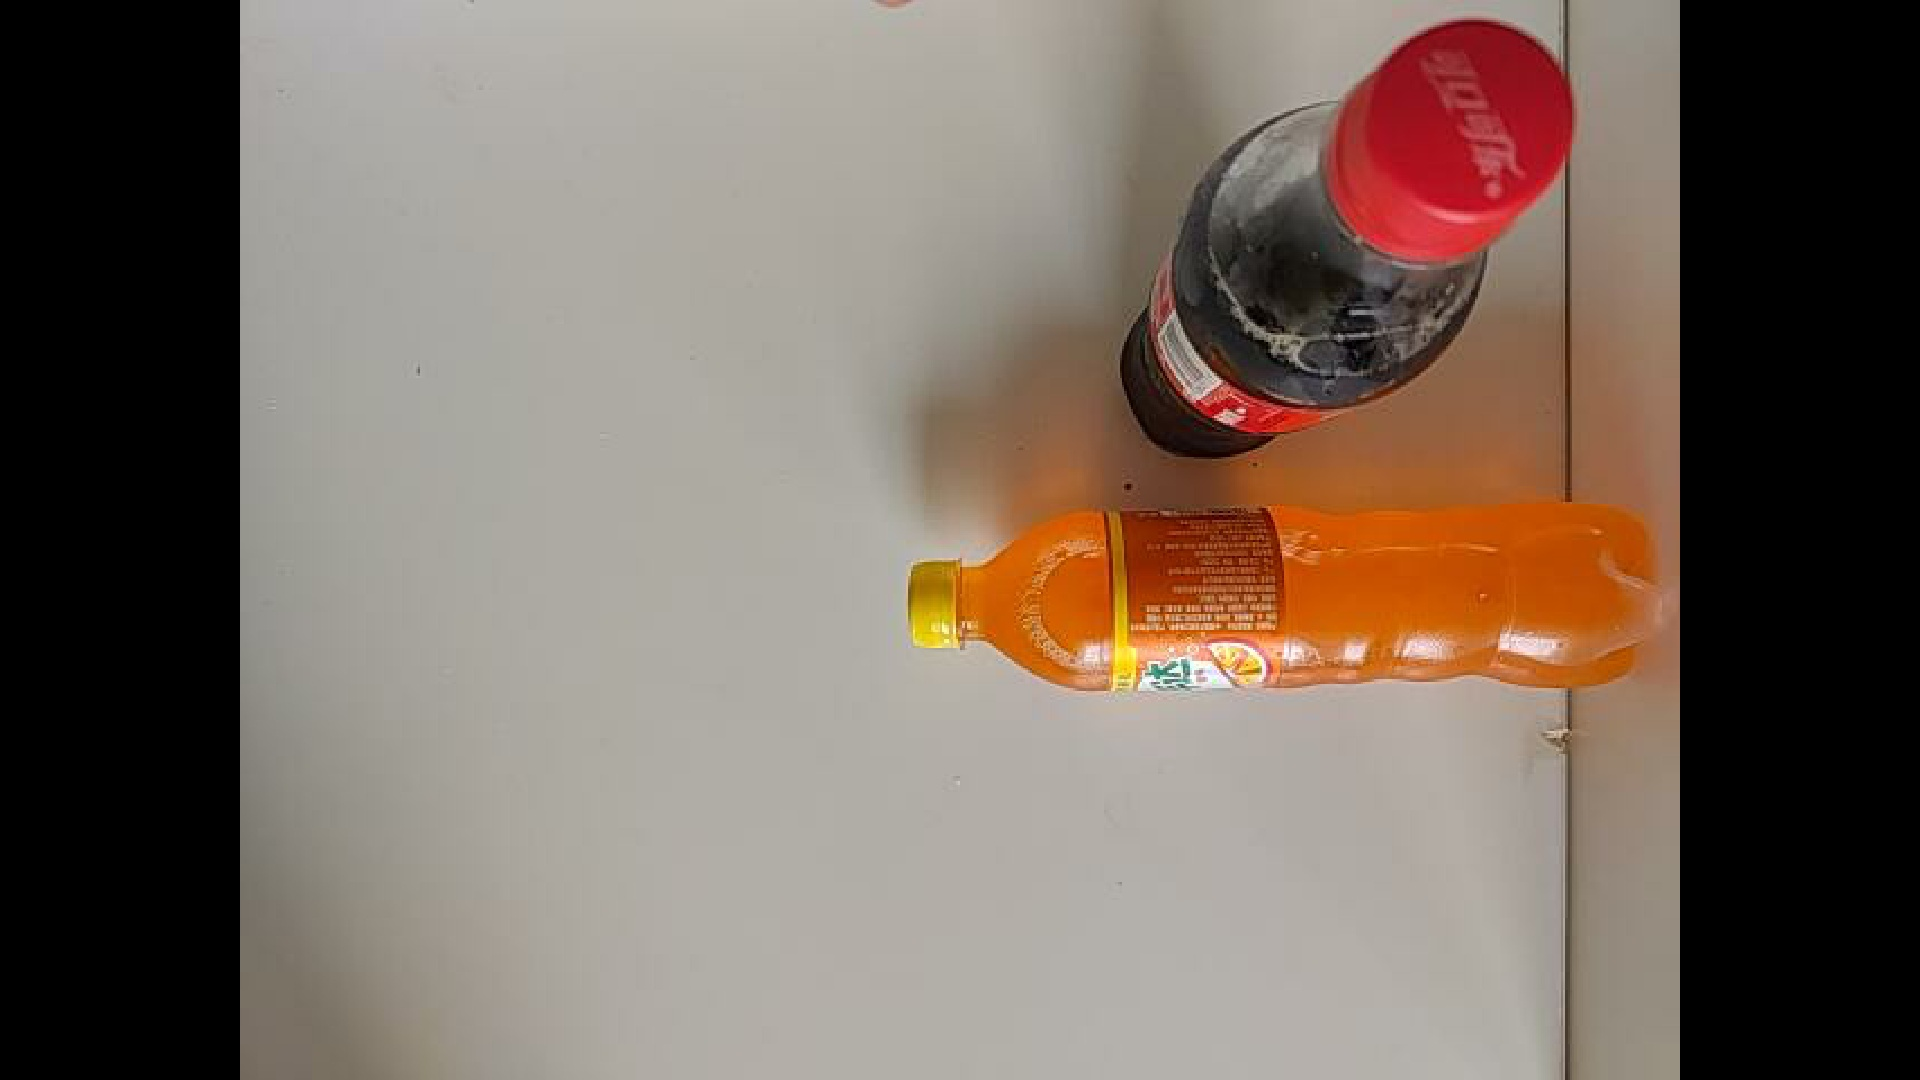cola: (1116, 17, 1577, 462)
fenta: (903, 501, 1671, 696)
